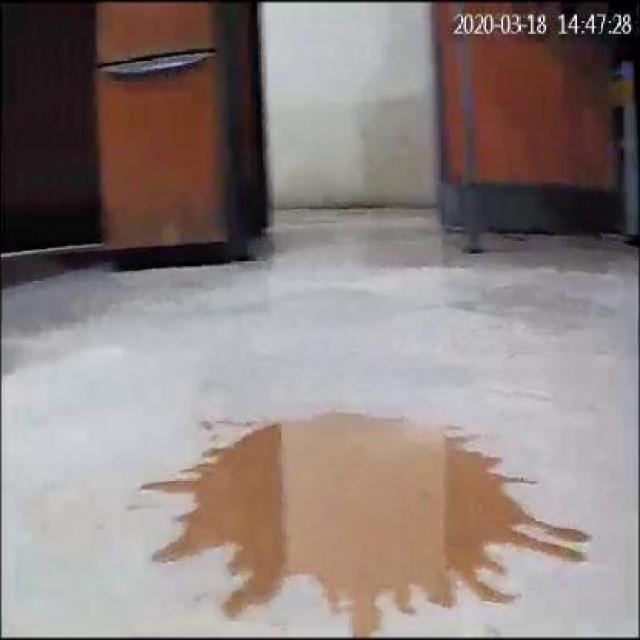spill: (142, 414, 596, 634)
